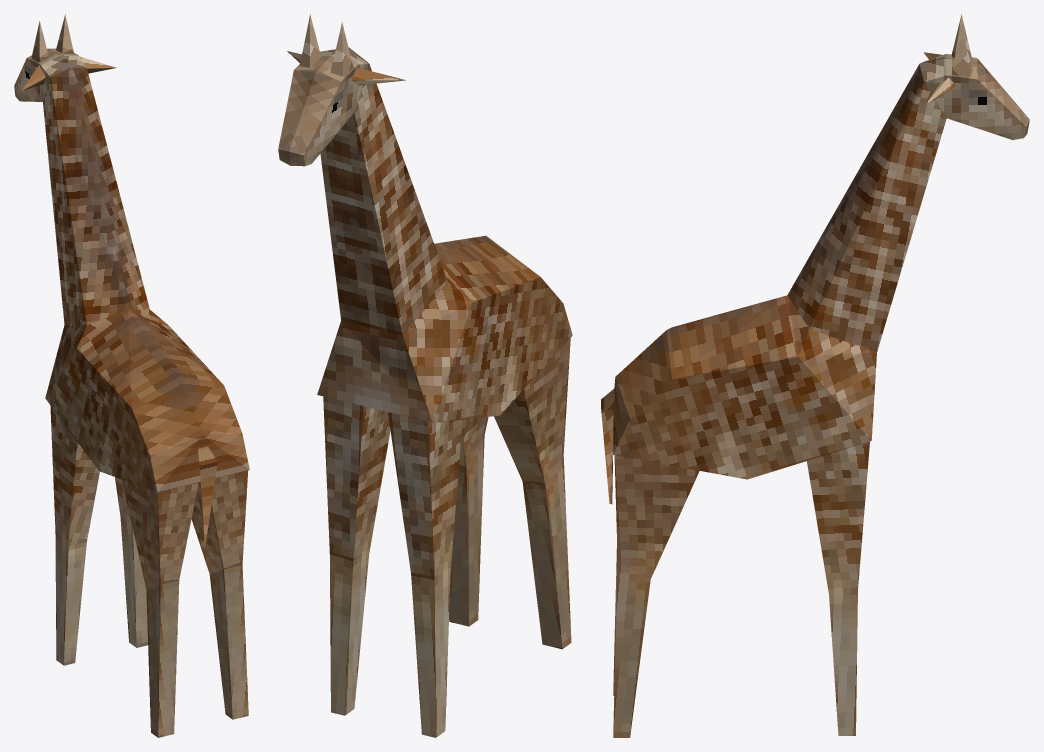
File: Giraffe_Giraffe.glb
3 renders of one model, left to right at view 1: azimuth 30°, elevation 25°; view 2: azimuth 150°, elevation 25°; view 3: azimuth 270°, elevation 25°, orthographic. The views are drawn at different scales.
Parts seen in each view (by area): view 1: Body, Neck, Leg3, Leg4, Leg1, Head, Leg2; view 2: Body, Neck, Leg1, Leg2, Leg3, Head, Leg4; view 3: Body, Neck, Leg4, Leg2, Head.
Boxes of the visible parts, <box> form: Body: <box>45,309,249,546</box>; Neck: <box>43,67,149,324</box>; Leg3: <box>122,480,198,737</box>; Leg4: <box>191,470,248,719</box>; Leg1: <box>50,405,99,665</box>; Head: <box>14,14,116,101</box>; Leg2: <box>115,477,147,647</box>; Body: <box>317,235,572,422</box>; Neck: <box>320,64,447,335</box>; Leg1: <box>388,412,462,737</box>; Leg2: <box>323,396,390,715</box>; Leg3: <box>494,338,571,649</box>; Head: <box>278,14,405,166</box>; Leg4: <box>449,417,488,626</box>; Body: <box>601,295,876,504</box>; Neck: <box>787,65,946,351</box>; Leg4: <box>613,455,699,737</box>; Leg2: <box>807,441,869,735</box>; Head: <box>919,14,1029,139</box>.
Bounding box in the file's own units: 0.5812 × 3.46 × 1.94.
Materials: 1 (1 with a texture image).
